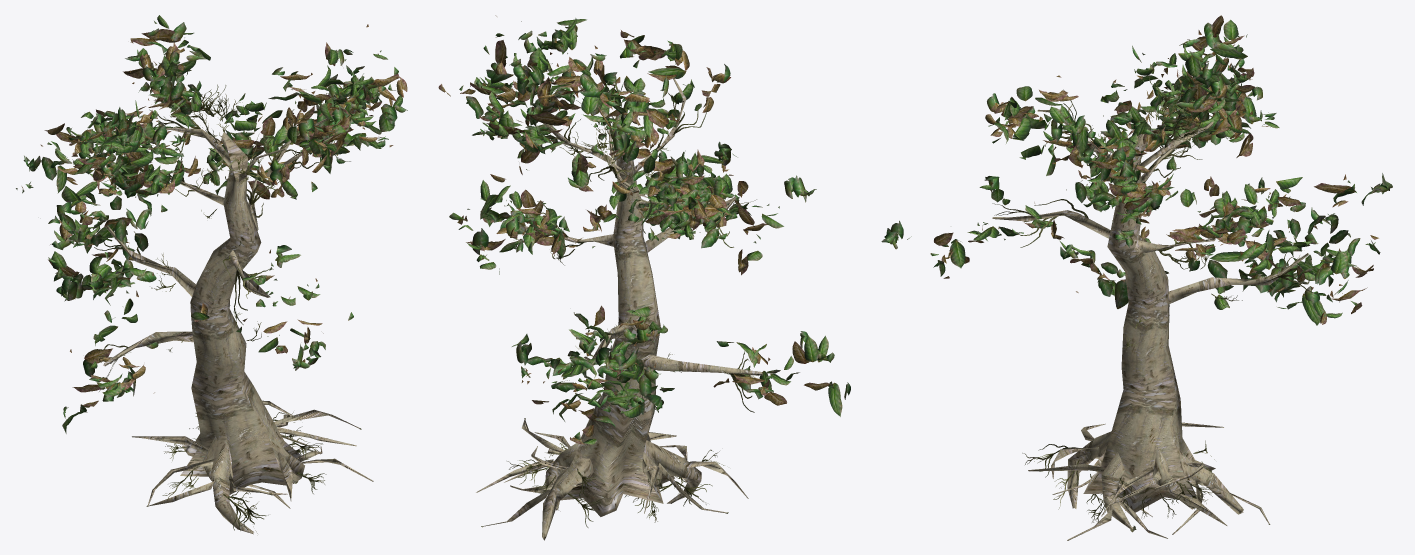
File: kingsville_wood01_lod1.gltf
3 renders of one model, left to right at view 1: azimuth 30°, elevation 25°; view 2: azimuth 150°, elevation 25°; view 3: azimuth 270°, elevation 25°, orthographic. The views are drawn at different scales.
Visible parts, largest first — view 1: Kingsville wood01; view 2: Kingsville wood01; view 3: Kingsville wood01.
Boxes of the visible parts, bbox=[...] form: Kingsville wood01: bbox=[16, 15, 407, 534]; Kingsville wood01: bbox=[438, 15, 850, 540]; Kingsville wood01: bbox=[881, 15, 1392, 540].
Size of the model in its own units: 3.62 by 4.38 by 4.27.
Materials: 4 (4 with a texture image).
